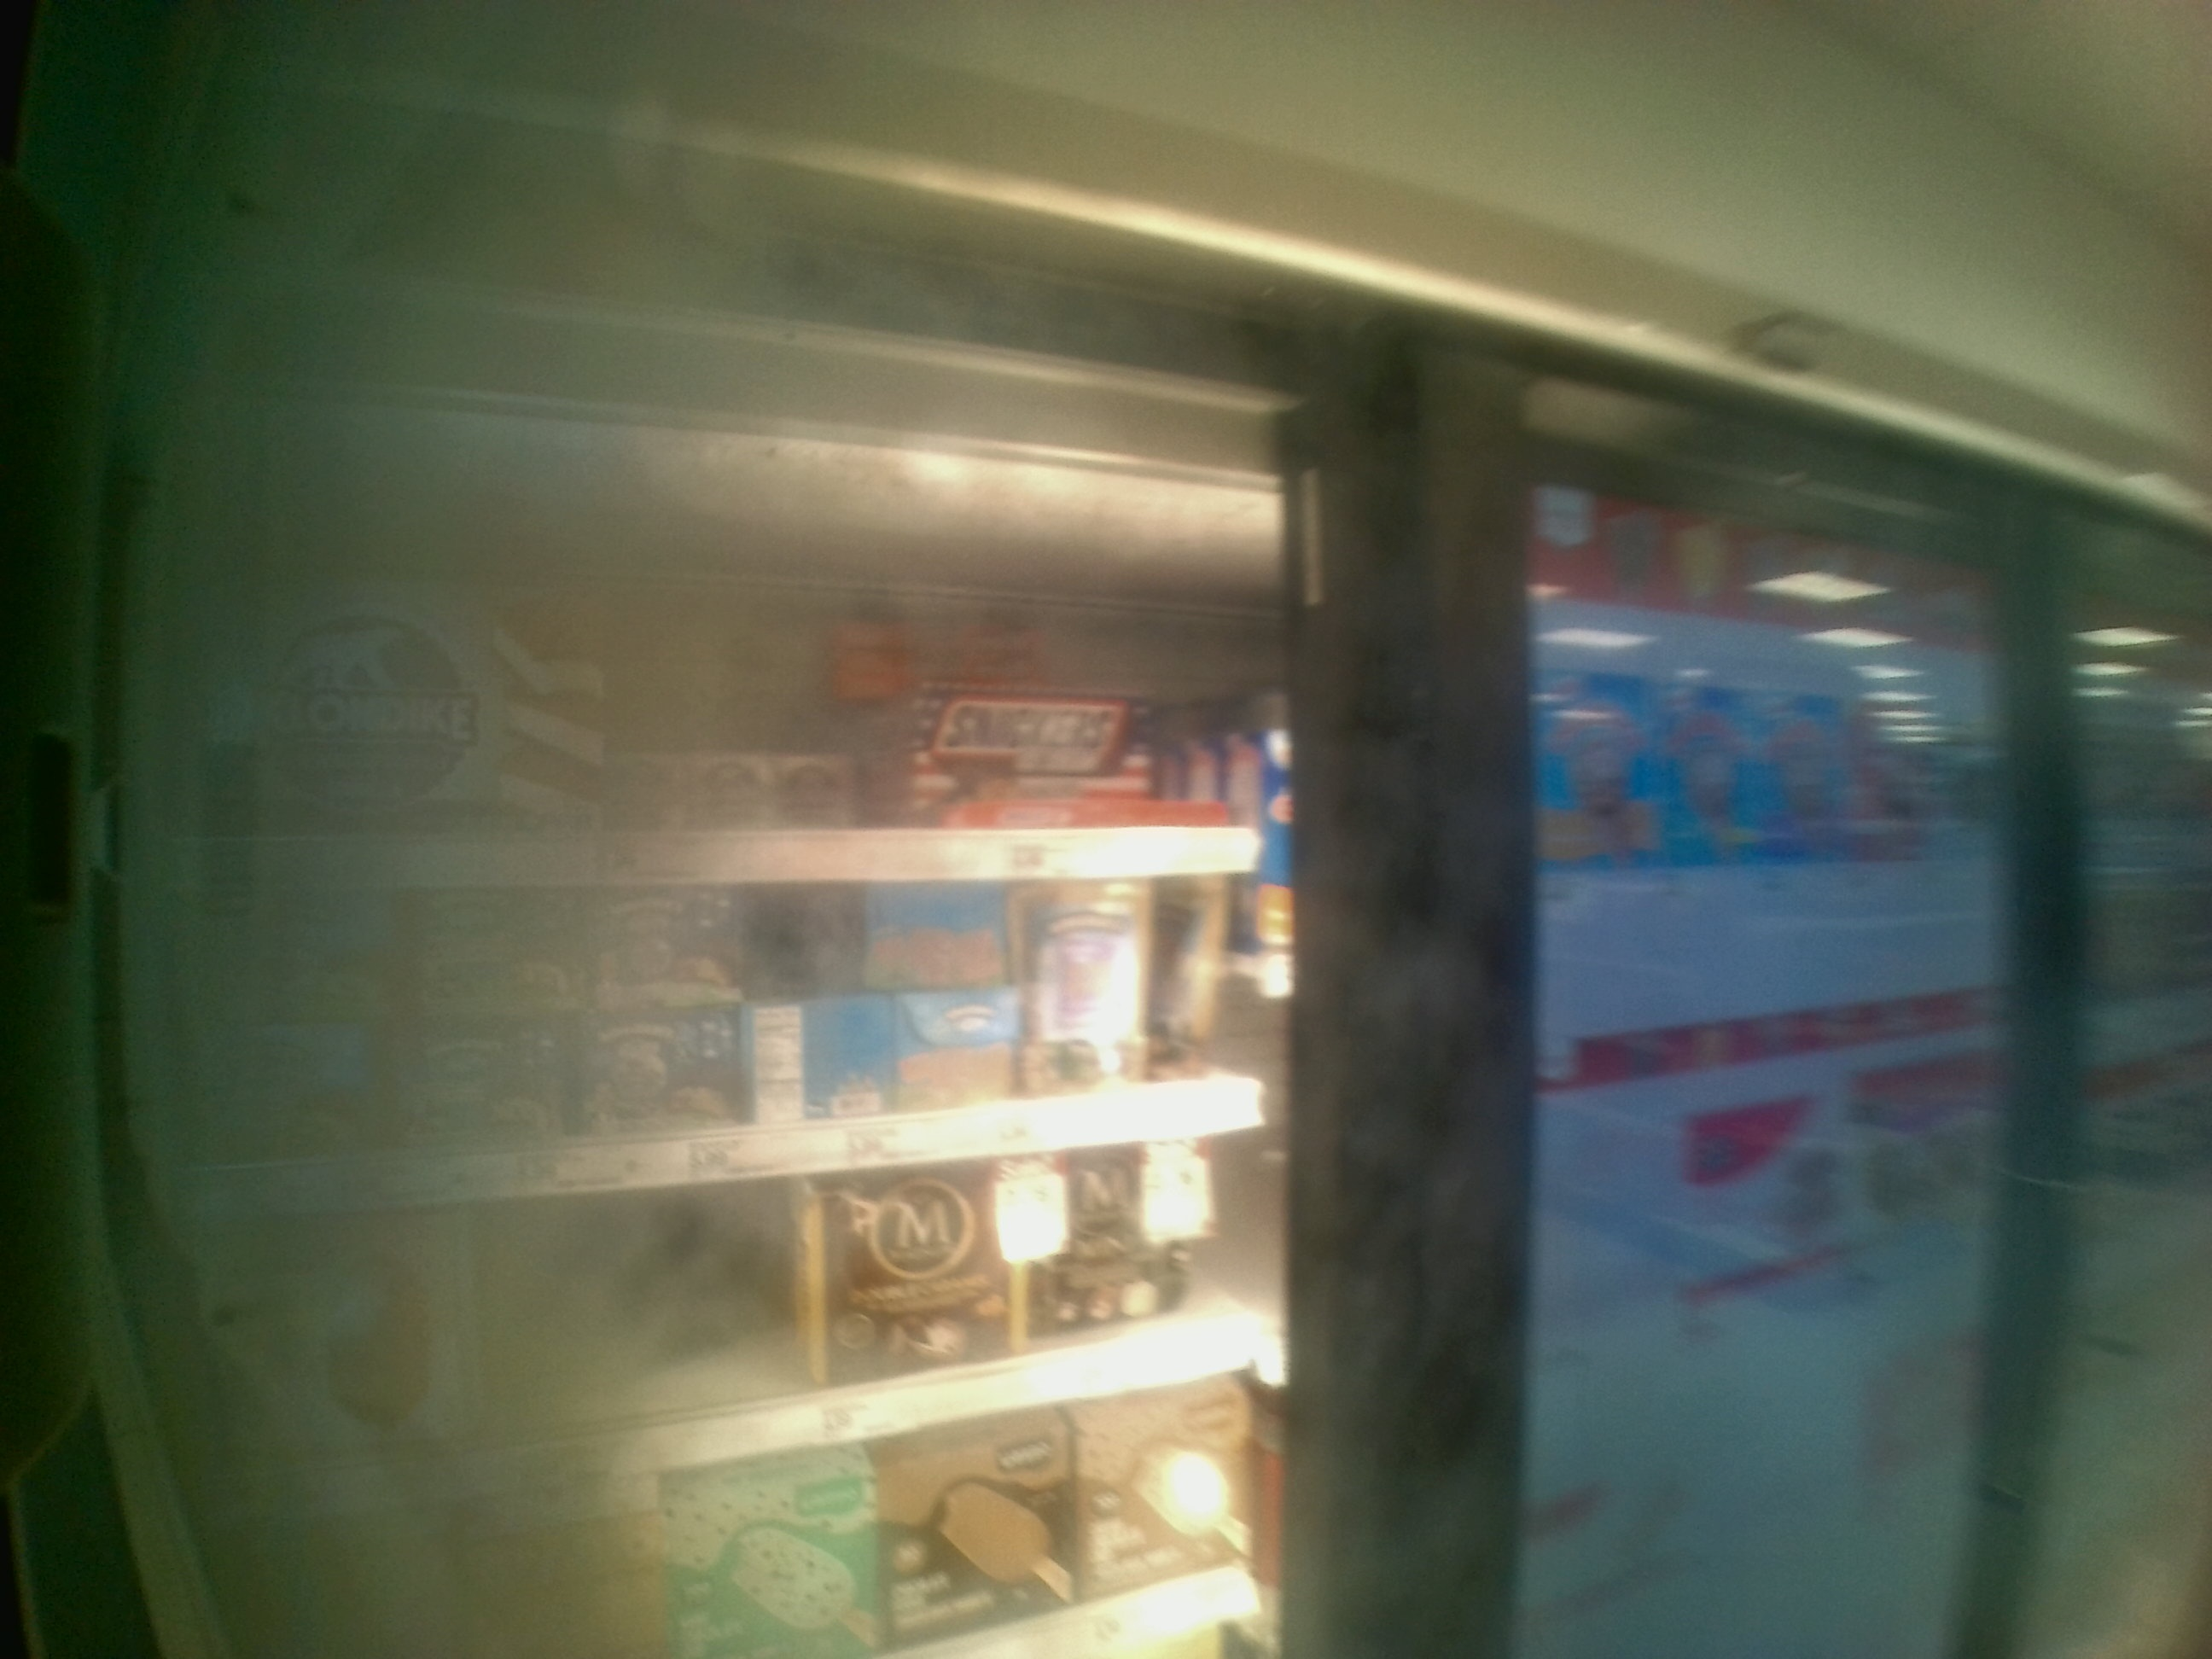shelf: (165, 441, 1268, 892), (169, 899, 1287, 1211)
